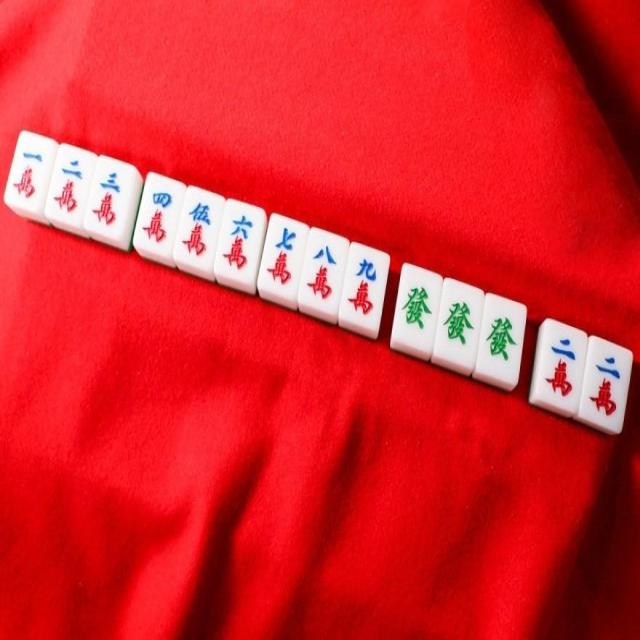fa: (473, 298, 529, 379), (432, 282, 487, 362), (392, 269, 444, 348)
m1: (11, 140, 47, 206)
m2: (579, 341, 636, 425), (534, 322, 590, 406), (48, 146, 97, 219)
m3: (85, 159, 138, 235)
m4: (133, 176, 185, 254)
m5: (175, 190, 224, 265)
m6: (219, 204, 266, 278)
m7: (264, 219, 308, 290)
m8: (302, 234, 348, 310)
m9: (342, 249, 390, 320)
